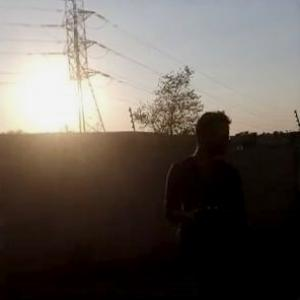follow: (160, 107, 254, 299)
